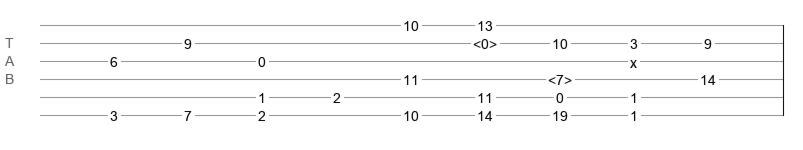0: (258, 54, 266, 64), (556, 90, 564, 100)
1: (258, 90, 266, 100), (630, 108, 638, 118), (630, 90, 638, 100)
10: (403, 108, 419, 118), (403, 18, 419, 28), (552, 36, 568, 46)
11: (403, 72, 419, 82), (477, 90, 493, 100)
13: (477, 18, 493, 28)
14: (477, 108, 493, 118), (700, 72, 716, 82)
19: (552, 108, 568, 118)
2: (258, 108, 266, 118), (333, 90, 341, 100)
3: (110, 108, 118, 118), (630, 36, 638, 46)
6: (110, 54, 118, 64)
7: (184, 108, 192, 118)
9: (184, 36, 192, 46), (704, 36, 712, 46)
harmonic: (473, 36, 497, 46), (548, 72, 572, 82)
x: (630, 55, 637, 63)
